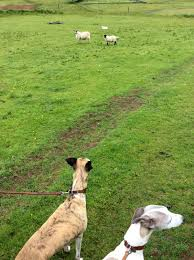sheep: (73, 29, 89, 41), (103, 33, 118, 45)
